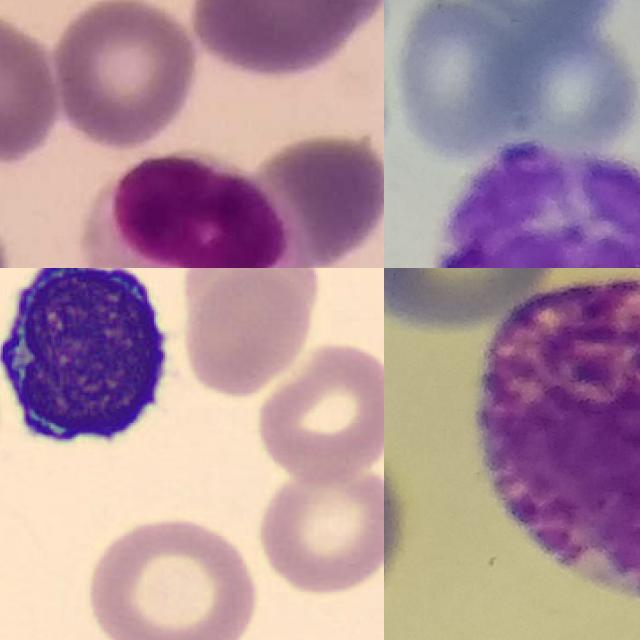Basophil: (477, 275, 640, 599), (438, 144, 640, 268)
Lymphocyte: (0, 268, 190, 468), (83, 148, 313, 268)
RBC: (77, 511, 264, 640), (253, 336, 384, 486), (251, 452, 384, 597), (177, 268, 319, 402)
